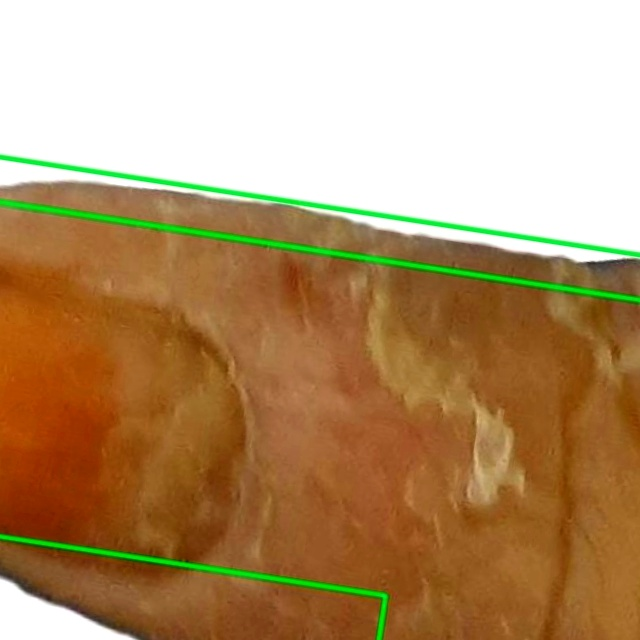Contact Dermatitis: (0, 157, 639, 639), (0, 0, 639, 299)
